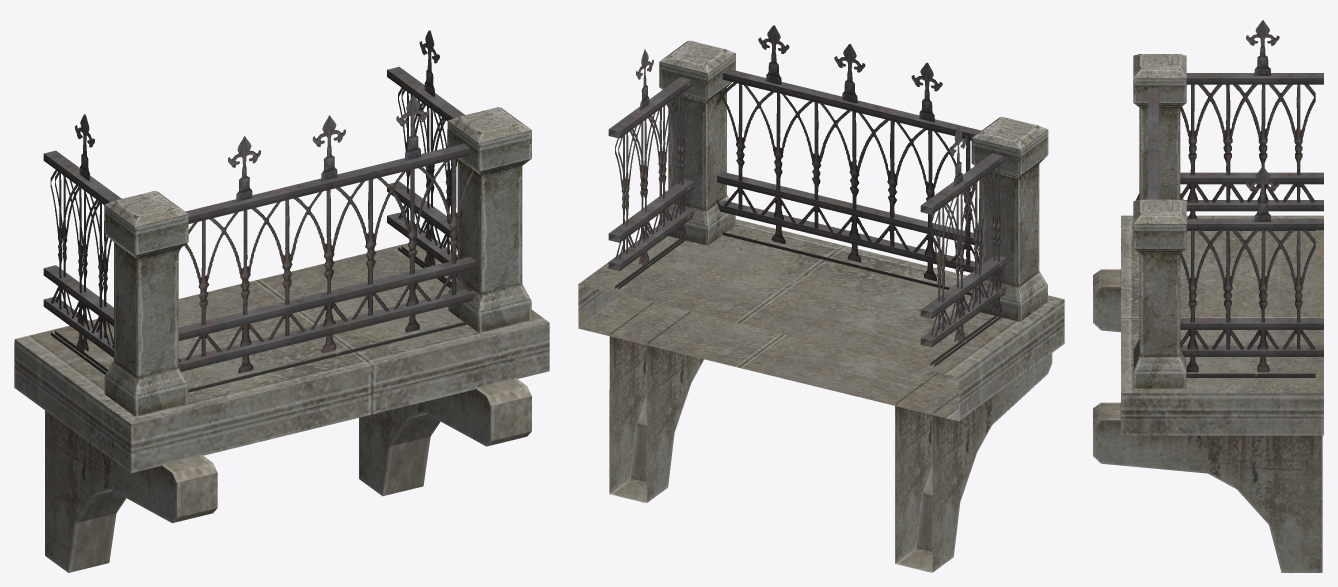
File: bg_lut_lucastle_housebalcony02_sm_sup.FBX
The picture shows the model from 3 angles, left to right: view 1: azimuth 30°, elevation 25°; view 2: azimuth 150°, elevation 25°; view 3: azimuth 270°, elevation 25°; orthographic projection. The views are drawn at different scales.
Visible parts, largest first — view 1: bg_lut_lucastle_housebalcony02_sm_sup; view 2: bg_lut_lucastle_housebalcony02_sm_sup; view 3: bg_lut_lucastle_housebalcony02_sm_sup.
Boxes of the visible parts, bbox=[...] form: bg_lut_lucastle_housebalcony02_sm_sup: bbox=[14, 30, 549, 572]; bg_lut_lucastle_housebalcony02_sm_sup: bbox=[578, 25, 1064, 572]; bg_lut_lucastle_housebalcony02_sm_sup: bbox=[1093, 20, 1323, 572].
Bounding box in the file's own units: 101 × 109 × 55.37.
